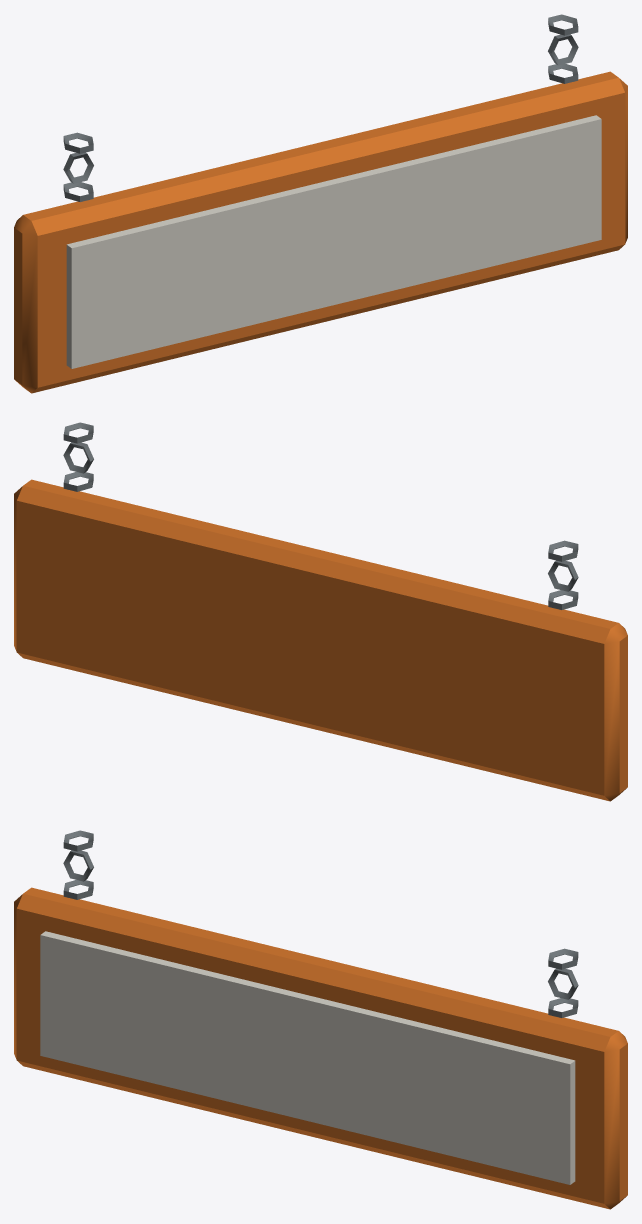
Rendered from 202_panneau_rayon.fbx.
3 views of the same model, one above another, from view 1: azimuth 30°, elevation 25°; view 2: azimuth 150°, elevation 25°; view 3: azimuth 330°, elevation 25° (orthographic).
Parts seen in each view (by area): view 1: Panneau; view 2: Panneau; view 3: Panneau.
Part boxes in pixels (<box>): Panneau: <box>14,14,627,393</box>; Panneau: <box>14,422,627,801</box>; Panneau: <box>14,830,627,1209</box>.
Size of the model in its own units: 1.12 by 0.42 by 0.084.
1 material, 1 textured.
